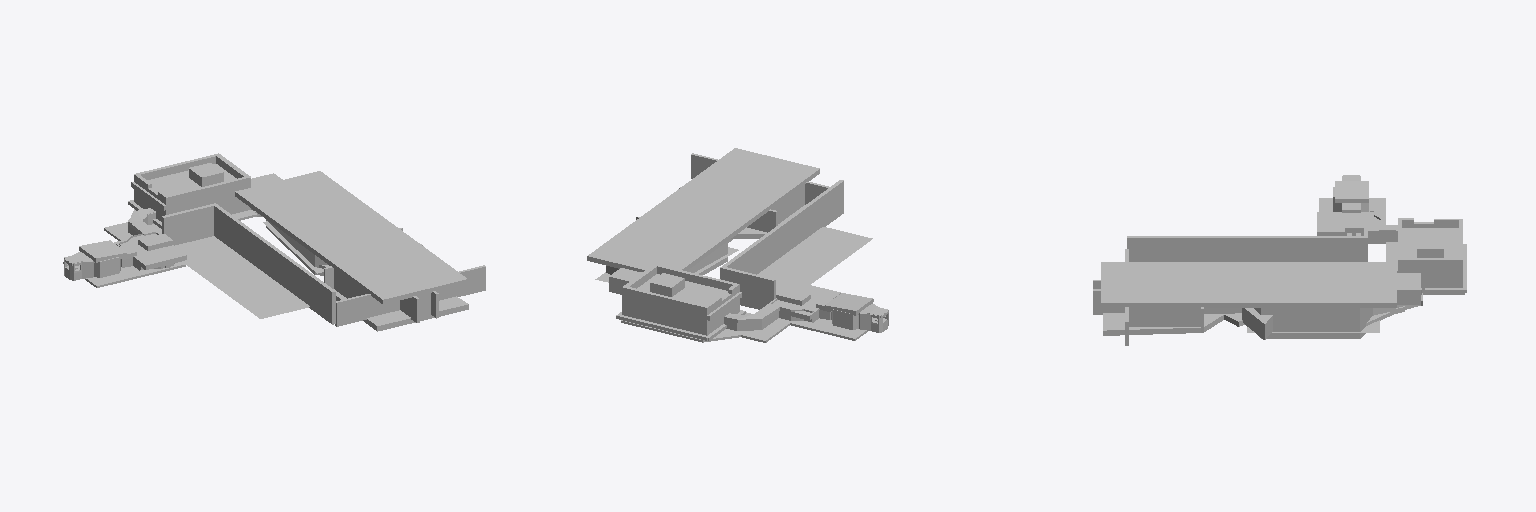
Rendered from FirstStage.obj.
3 views of the same model, side by side, from view 1: azimuth 30°, elevation 25°; view 2: azimuth 150°, elevation 25°; view 3: azimuth 270°, elevation 25° (orthographic).
Visible parts, largest first — view 1: Cube.074_Cube.066, Plane.003, Cube.064_Cube.065, Cube.063_Cube.064, Cube.026_Cube.029, Plane.002, Cube.035_Cube.042, Cube.053_Cube.054, Cube.029_Cube.035, Cube.040_Cube.015, Cube.068_Cube.070, Cube.050_Cube.051 (+4 smaller); view 2: Cube.074_Cube.066, Cube.064_Cube.065, Plane.003, Cube.040_Cube.015, Plane.002, Cube.063_Cube.064, Cube.026_Cube.029, Cube.029_Cube.035, Cube.027_Cube.033, Cube.072_Cube.053, Cube.032_Cube.038, Cube.054_Cube.055 (+1 smaller); view 3: Cube.074_Cube.066, Cube.064_Cube.065, Cube.042_Cube.026, Cube.068_Cube.070, Cube.040_Cube.015, Cube.049_Cube.050, Cube.029_Cube.035, Cube.026_Cube.029, Cube.073_Cube.059, Plane.002, Cube.072_Cube.053, Cube.044_Cube.
Part boxes in pixels (left/top/right/bottom): Cube.074_Cube.066: left=235, top=171, right=467, bottom=304; Plane.003: left=175, top=236, right=309, bottom=318; Cube.064_Cube.065: left=212, top=204, right=335, bottom=324; Cube.063_Cube.064: left=162, top=203, right=217, bottom=245; Cube.026_Cube.029: left=114, top=234, right=186, bottom=269; Plane.002: left=63, top=209, right=257, bottom=287; Cube.035_Cube.042: left=196, top=177, right=250, bottom=214; Cube.053_Cube.054: left=335, top=294, right=399, bottom=326; Cube.029_Cube.035: left=131, top=164, right=236, bottom=218; Cube.040_Cube.015: left=134, top=153, right=236, bottom=208; Cube.068_Cube.070: left=319, top=265, right=468, bottom=331; Cube.050_Cube.051: left=437, top=265, right=485, bottom=300; Cube.074_Cube.066: left=587, top=148, right=819, bottom=271; Cube.064_Cube.065: left=723, top=180, right=843, bottom=274; Plane.003: left=757, top=227, right=872, bottom=293; Cube.040_Cube.015: left=622, top=274, right=721, bottom=335; Plane.002: left=621, top=312, right=885, bottom=342; Cube.063_Cube.064: left=720, top=266, right=775, bottom=309; Cube.026_Cube.029: left=773, top=283, right=840, bottom=320; Cube.029_Cube.035: left=637, top=274, right=741, bottom=324; Cube.027_Cube.033: left=724, top=298, right=818, bottom=330; Cube.072_Cube.053: left=825, top=293, right=873, bottom=315; Cube.032_Cube.038: left=650, top=273, right=684, bottom=296; Cube.054_Cube.055: left=771, top=185, right=804, bottom=223; Cube.074_Cube.066: left=1101, top=262, right=1396, bottom=307; Cube.064_Cube.065: left=1127, top=236, right=1367, bottom=261; Cube.042_Cube.026: left=1204, top=308, right=1395, bottom=338; Cube.068_Cube.070: left=1103, top=311, right=1393, bottom=335; Cube.040_Cube.015: left=1427, top=219, right=1462, bottom=287; Cube.049_Cube.050: left=1129, top=308, right=1200, bottom=326; Cube.029_Cube.035: left=1402, top=222, right=1458, bottom=257; Cube.026_Cube.029: left=1317, top=212, right=1380, bottom=235; Cube.073_Cube.059: left=1397, top=273, right=1420, bottom=304; Plane.002: left=1319, top=198, right=1464, bottom=294; Cube.072_Cube.053: left=1335, top=181, right=1368, bottom=202; Cube.044_Cube: left=1242, top=308, right=1272, bottom=339.
Bounding box in the file's own units: 133 × 20.4 × 141.